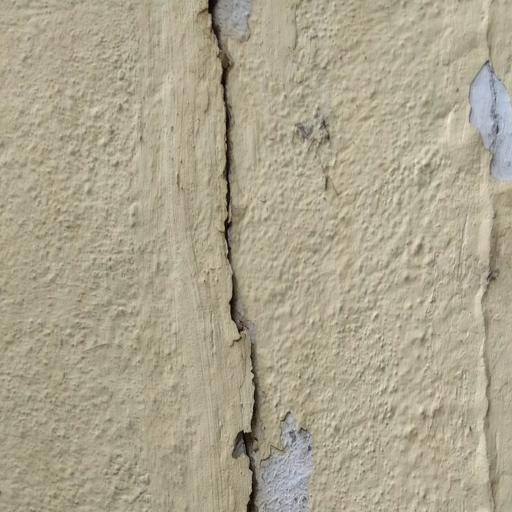major_crack: (189, 0, 287, 512)
